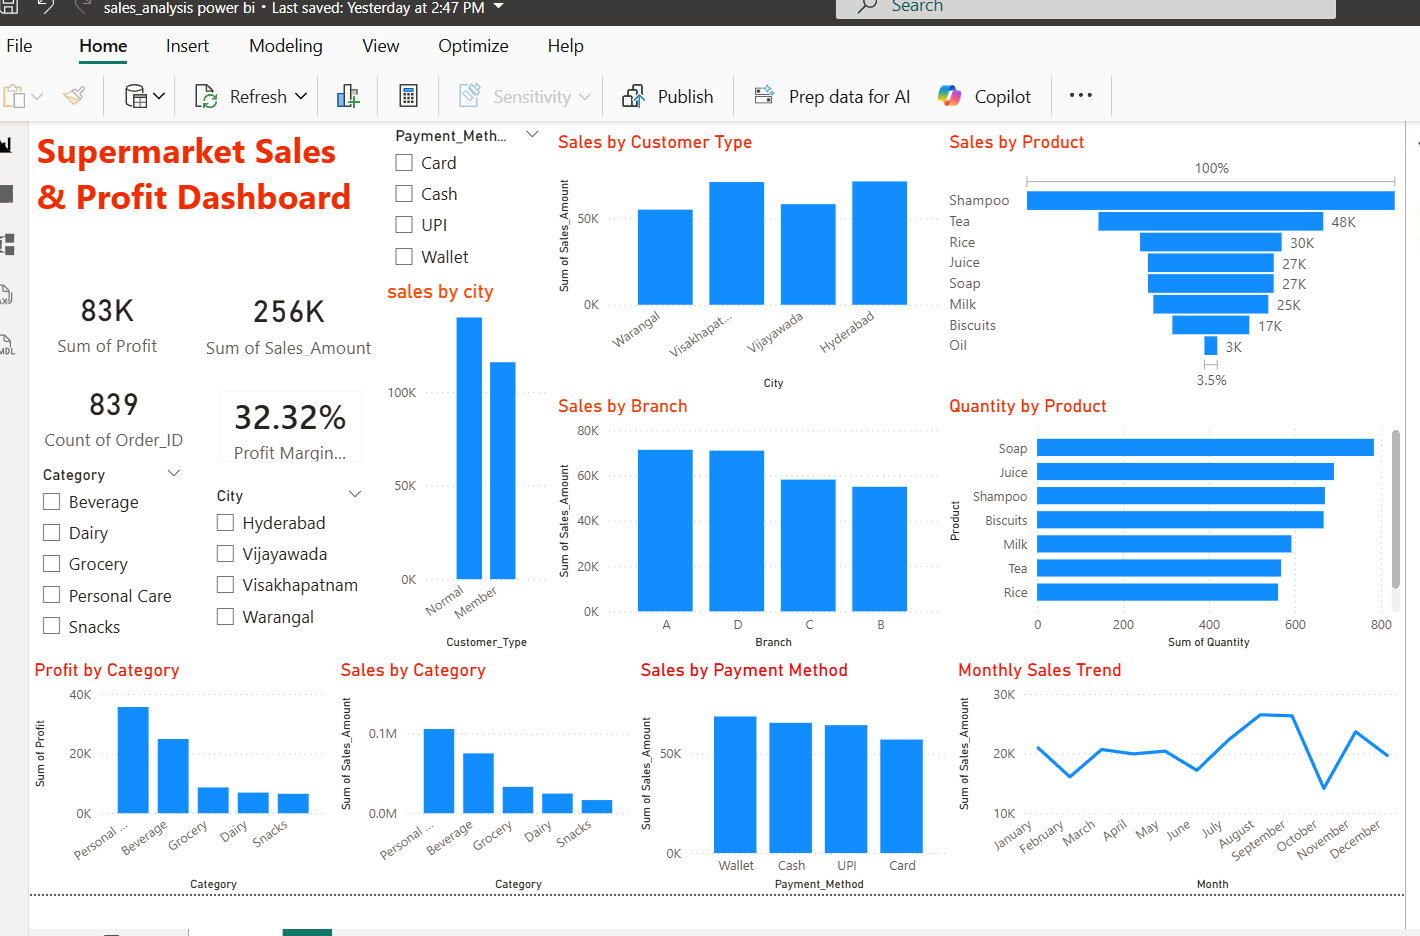

The page's visual inventory and layout, read from the dashboard file:
{"tool":"powerbi","page":{"name":"Page 1","canvas":[1280,720],"ordinal":0},"visuals":[{"type":"card","fields":{"Values":["Sum(sales_data.Sales_Amount)"]},"box":[157.8,149.6,167.4,72.7],"z":0},{"type":"card","fields":{"Values":["Sum(sales_data.Profit)"]},"box":[2.7,148.2,141.3,74.1],"z":1000},{"type":"card","fields":{"Values":["CountNonNull(sales_data.Order_ID)"]},"box":[2.7,233.3,153.7,76.8],"z":2000},{"type":"cardVisual","fields":{"Data":["sales_data.Profit Margin %"]},"box":[160.5,233.3,167.4,101.5],"z":3000},{"type":"clusteredColumnChart","title":"Sales by Customer Type","fields":{"Category":["sales_data.City"],"Y":["Sum(sales_data.Sales_Amount)"]},"box":[487.1,0,363.6,255.2],"z":4000},{"type":"funnel","title":"Sales by Product","fields":{"Category":["sales_data.Product"],"Y":["Sum(sales_data.Sales_Amount)"]},"box":[850.8,0,429.5,255.2],"z":5000},{"type":"clusteredColumnChart","title":"Sales by Category","fields":{"Category":["sales_data.Category"],"Y":["Sum(sales_data.Sales_Amount)"]},"box":[285.4,499.5,278.6,220.9],"z":6000},{"type":"clusteredColumnChart","title":" Profit by Category","fields":{"Category":["sales_data.Category"],"Y":["Sum(sales_data.Profit)"]},"box":[0,499.5,281.3,220.9],"z":7000},{"type":"clusteredColumnChart","title":" Sales by Payment Method","fields":{"Category":["sales_data.Payment_Method"],"Y":["Sum(sales_data.Sales_Amount)"]},"box":[564,499.5,295,220.9],"z":8000},{"type":"lineChart","title":"Monthly Sales Trend","fields":{"Category":["sales_data.Date.Variation.Date Hierarchy.Month"],"Y":["Sum(sales_data.Sales_Amount)"]},"box":[859,499.5,421.3,220.9],"z":9000},{"type":"lineClusteredColumnComboChart","title":"Sales by Branch","fields":{"Category":["sales_data.Branch"],"Y":["Sum(sales_data.Sales_Amount)"]},"box":[487.1,255.2,363.6,241.5],"z":10000},{"type":"clusteredColumnChart","title":"sales by city","fields":{"Category":["sales_data.Customer_Type"],"Y":["Sum(sales_data.Sales_Amount)"]},"box":[328,148.2,159.2,348.5],"z":11000},{"type":"clusteredBarChart","title":" Quantity by Product","fields":{"Category":["sales_data.Product"],"Y":["Sum(sales_data.Quantity)"]},"box":[850.8,255.2,429.5,241.5],"z":12000},{"type":"slicer","fields":{"Values":["sales_data.City"]},"box":[161.9,334.8,160.5,161.9],"z":13000},{"type":"slicer","fields":{"Values":["sales_data.Category"]},"box":[0,315.6,153.7,181.1],"z":14000},{"type":"slicer","fields":{"Values":["sales_data.Payment_Method"]},"box":[328,0,159.2,148.2],"z":15000},{"type":"textbox","box":[2.7,0,318.4,140],"z":16000}]}

Visuals, with their boxes on the page's 1280x720 design canvas (x1, y1, x2, y2). These are canvas units, not pixel positions in the 1420x936 screenshot, which may show the page scaled, cropped or inside an application window:
card - Sum(sales_data.Sales_Amount): bbox=(158, 150, 325, 222)
card - Sum(sales_data.Profit): bbox=(3, 148, 144, 222)
card - CountNonNull(sales_data.Order_ID): bbox=(3, 233, 156, 310)
cardVisual - sales_data.Profit Margin %: bbox=(160, 233, 328, 335)
"Sales by Customer Type" clusteredColumnChart: bbox=(487, 0, 851, 255)
"Sales by Product" funnel: bbox=(851, 0, 1280, 255)
"Sales by Category" clusteredColumnChart: bbox=(285, 500, 564, 720)
" Profit by Category" clusteredColumnChart: bbox=(0, 500, 281, 720)
" Sales by Payment Method" clusteredColumnChart: bbox=(564, 500, 859, 720)
"Monthly Sales Trend" lineChart: bbox=(859, 500, 1280, 720)
"Sales by Branch" lineClusteredColumnComboChart: bbox=(487, 255, 851, 497)
"sales by city" clusteredColumnChart: bbox=(328, 148, 487, 497)
" Quantity by Product" clusteredBarChart: bbox=(851, 255, 1280, 497)
slicer - sales_data.City: bbox=(162, 335, 322, 497)
slicer - sales_data.Category: bbox=(0, 316, 154, 497)
slicer - sales_data.Payment_Method: bbox=(328, 0, 487, 148)
textbox: bbox=(3, 0, 321, 140)
